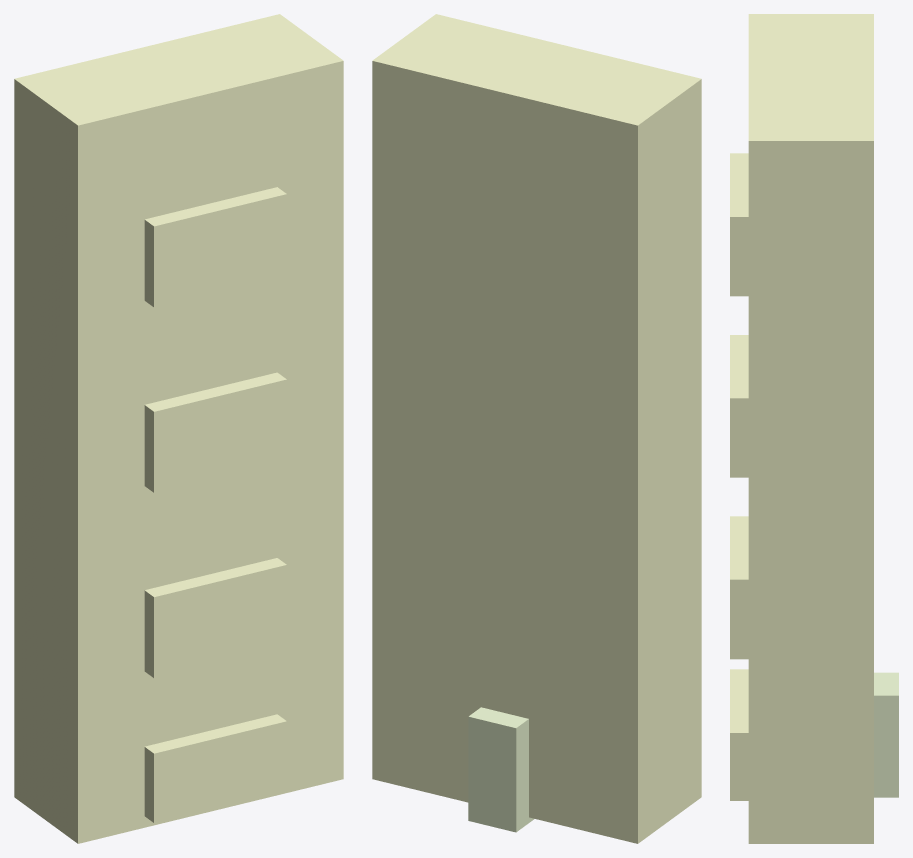
File: signal_bus_priority_vertical_4_aspect.glb
The picture shows the model from 3 angles, left to right: view 1: azimuth 30°, elevation 25°; view 2: azimuth 150°, elevation 25°; view 3: azimuth 270°, elevation 25°; orthographic projection. The views are drawn at different scales.
Visible parts, largest first — view 1: housing, display_bus_stop, display_bus_go, display_bus_caution, display_bus_call; view 2: housing, bracket; view 3: housing, bracket, display_bus_stop, display_bus_go, display_bus_caution, display_bus_call.
Part boxes in pixels (x1,y1,x2,y2): housing: [14, 14, 343, 843]; display_bus_stop: [144, 187, 286, 307]; display_bus_go: [144, 558, 286, 678]; display_bus_caution: [144, 372, 286, 492]; display_bus_call: [144, 714, 286, 822]; housing: [372, 14, 701, 843]; bracket: [468, 707, 534, 832]; housing: [748, 14, 873, 843]; bracket: [874, 672, 898, 797]; display_bus_stop: [730, 153, 748, 296]; display_bus_go: [730, 516, 748, 659]; display_bus_caution: [730, 335, 748, 477]; display_bus_call: [730, 669, 748, 800].
Size of the model in its own units: 0.48 by 1.25 by 0.27.
